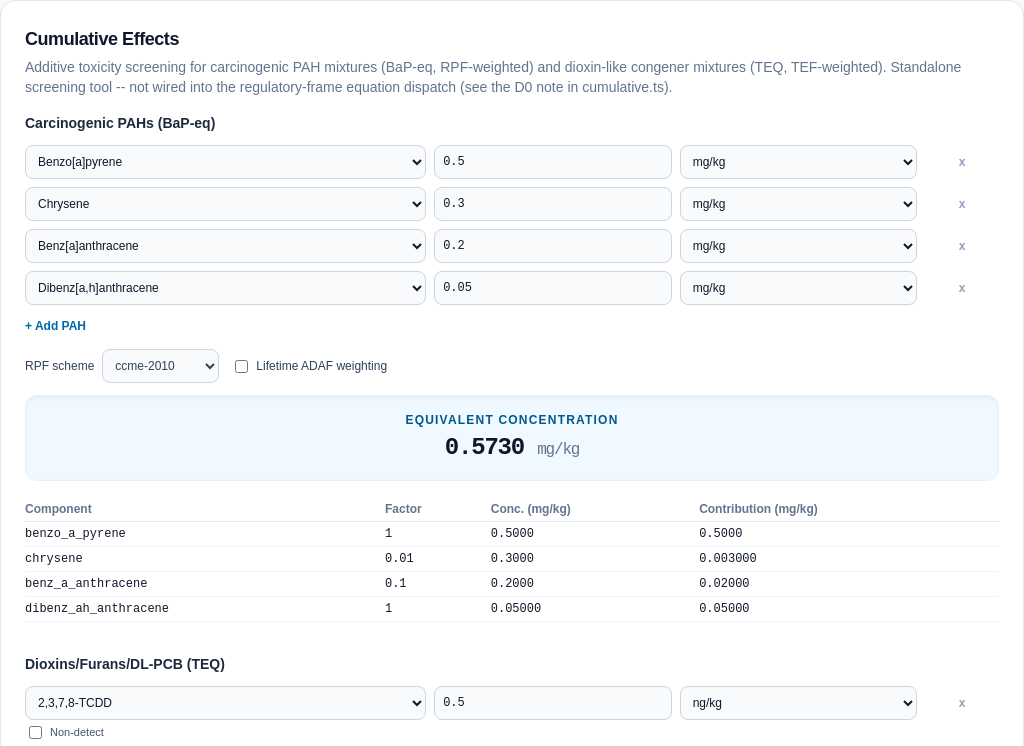
it: CumulativeEffectsCalculator › blocked path: selecting the not-yet-verified who-1998-pah RPF scheme blocks BaP-eq and withholds the total
Select "who-1998-pah" in the dropdown with test id "cum-bapeq-scheme" at (161, 366), box [102,349,219,383]
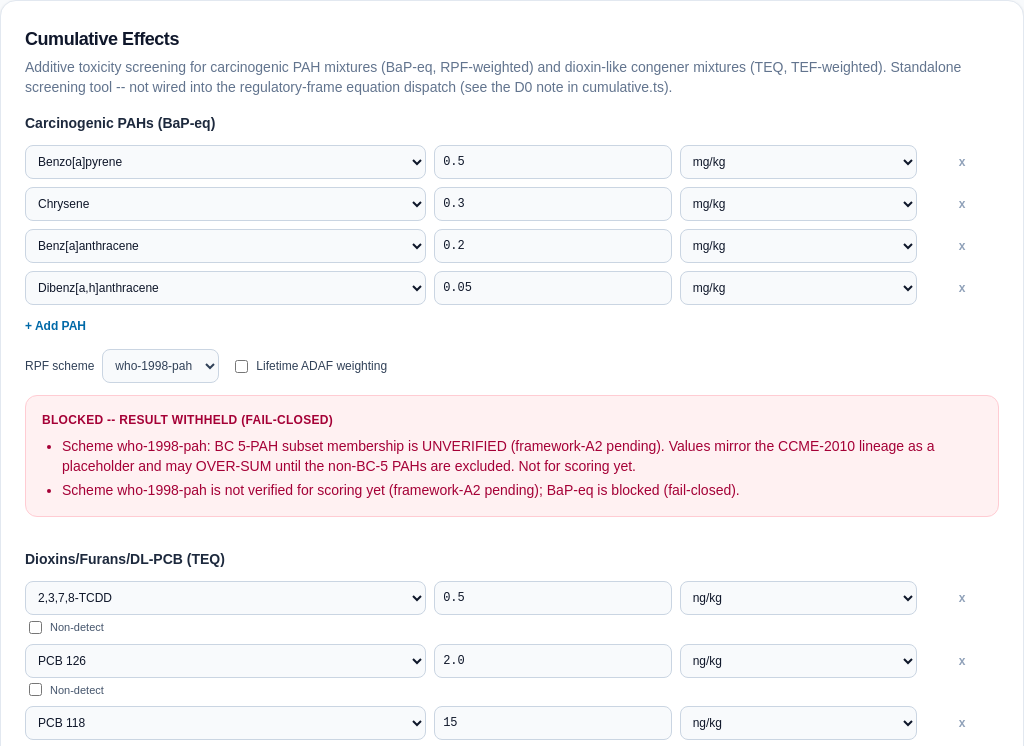
Check: the message with test id "cum-bapeq-blocked" shows "not verified for scoring", box [62,482,740,498]
Check: the message with test id "cum-bapeq-blocked" shows "fail-closed", box [42,413,333,427]
Check: the element with test id "cum-bapeq-value" is gone
